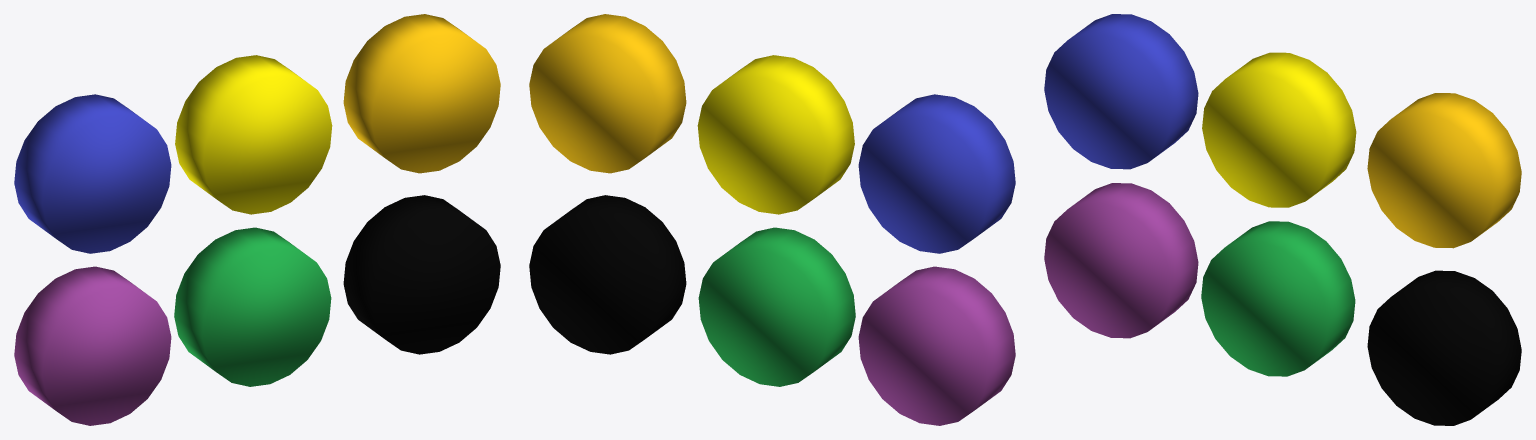
Rendered from rockingchair.fbx_mentos_.fbx.
3 renders of one model, left to right at view 1: azimuth 30°, elevation 25°; view 2: azimuth 150°, elevation 25°; view 3: azimuth 330°, elevation 25°, orthographic.
Parts seen in each view (by area): view 1: mentos3, mentos6, mentos2, mentos5, mentos1, mentos4; view 2: mentos3, mentos6, mentos2, mentos5, mentos1, mentos4; view 3: mentos6, mentos3, mentos1, mentos2, mentos5, mentos4.
Part boxes in pixels (x1=…): mentos3: x1=175, y1=55, x2=332, y2=214; mentos6: x1=174, y1=227, x2=331, y2=386; mentos2: x1=14, y1=94, x2=171, y2=253; mentos5: x1=343, y1=195, x2=500, y2=354; mentos1: x1=14, y1=266, x2=171, y2=425; mentos4: x1=343, y1=14, x2=500, y2=173; mentos3: x1=697, y1=55, x2=854, y2=214; mentos6: x1=698, y1=227, x2=855, y2=386; mentos2: x1=858, y1=94, x2=1015, y2=253; mentos5: x1=529, y1=195, x2=686, y2=354; mentos1: x1=858, y1=266, x2=1015, y2=425; mentos4: x1=529, y1=14, x2=686, y2=173; mentos6: x1=1201, y1=221, x2=1355, y2=376; mentos3: x1=1202, y1=52, x2=1356, y2=207; mentos1: x1=1044, y1=183, x2=1198, y2=338; mentos2: x1=1044, y1=14, x2=1198, y2=169; mentos5: x1=1367, y1=270, x2=1521, y2=425; mentos4: x1=1367, y1=93, x2=1521, y2=248.
Size of the model in its own units: 123 by 81.07 by 13.
